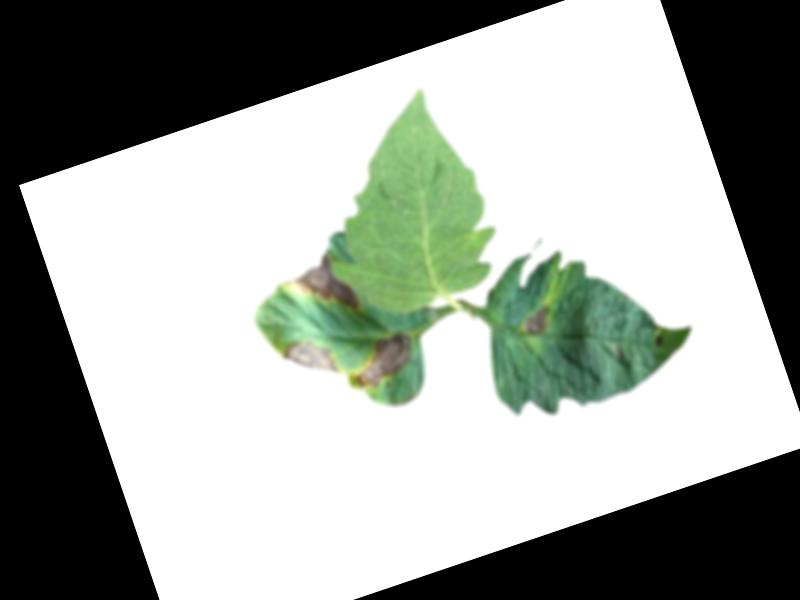Early_blight: (292, 247, 361, 323), (342, 328, 418, 391), (276, 332, 340, 392), (518, 301, 555, 340), (650, 331, 666, 348)
